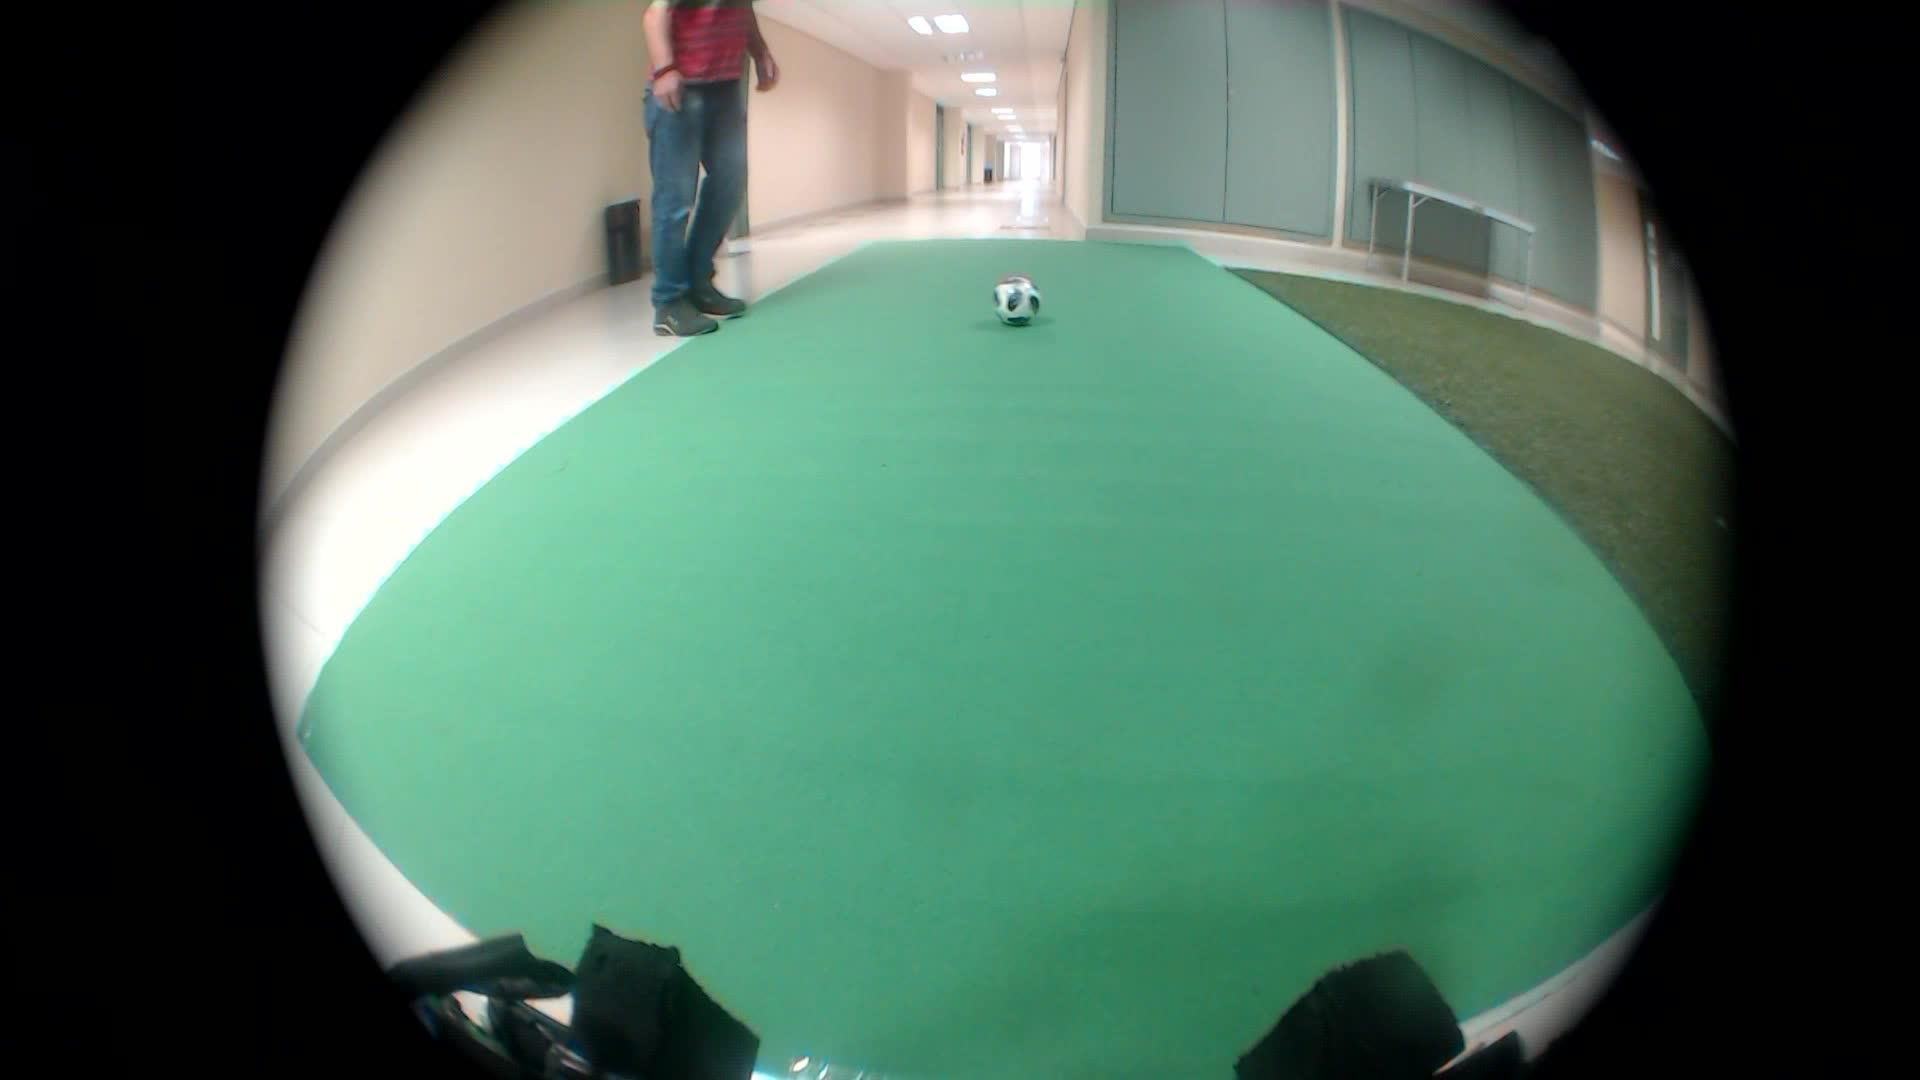ball: (982, 270, 1048, 336)
